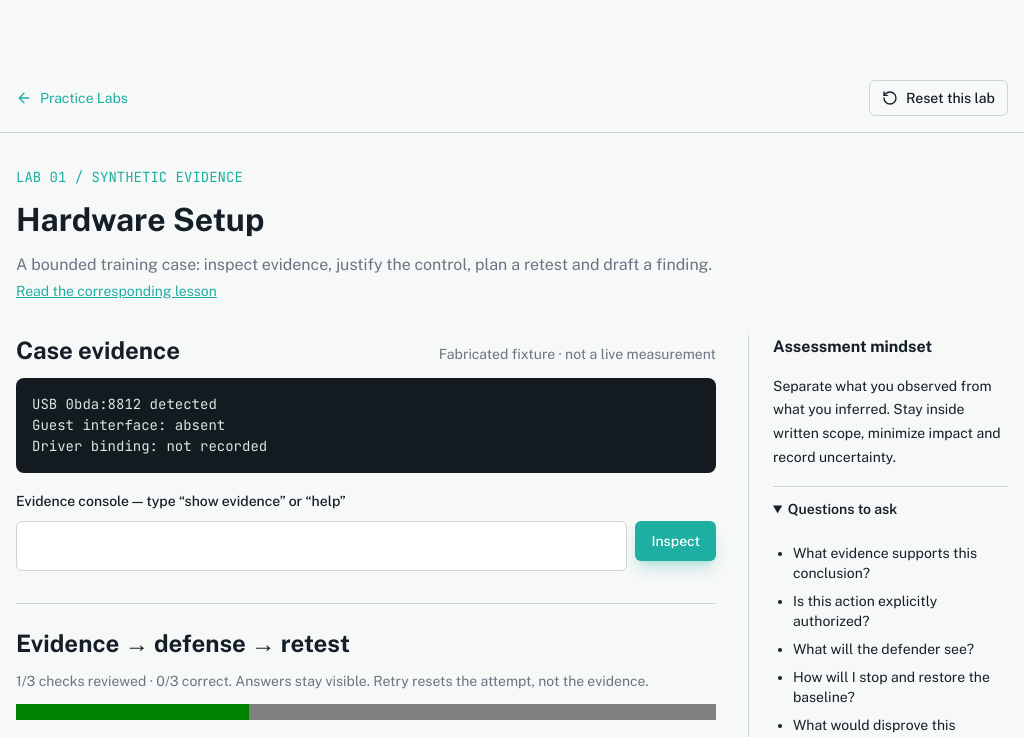
Test: actual learner flows › records a wrong answer honestly, resumes it, and resets the attempt
The width and height of the screenshot is (1024, 737).
Earlier steps of the test are not shown.
Expected: the text "1/3 checks reviewed" is shown, [16,671,716,691]
Click the button "Reset this lab".
click(938, 98)  # box [869,80,1008,116]
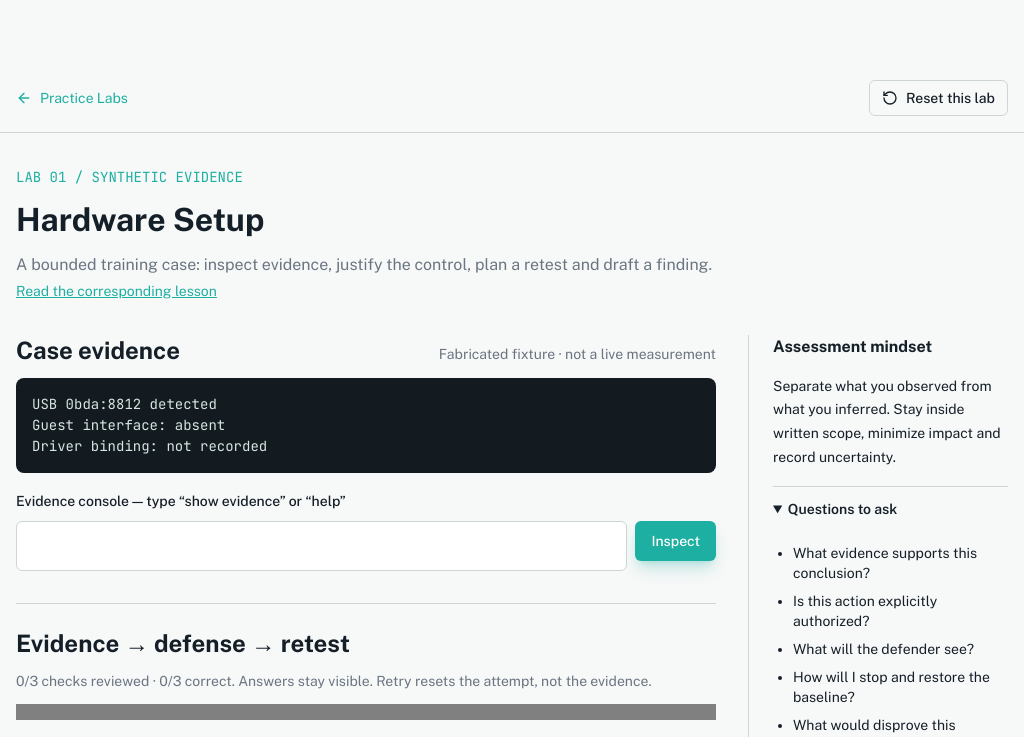
Now the text "0/3 checks reviewed" is shown, box [16,671,716,691]
